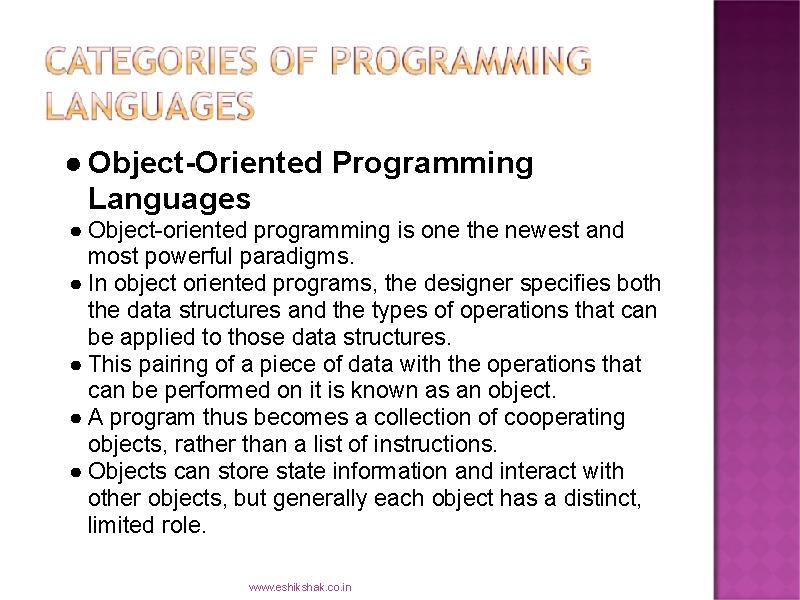paragraph: (53, 138, 667, 546)
title: (34, 28, 621, 125)
